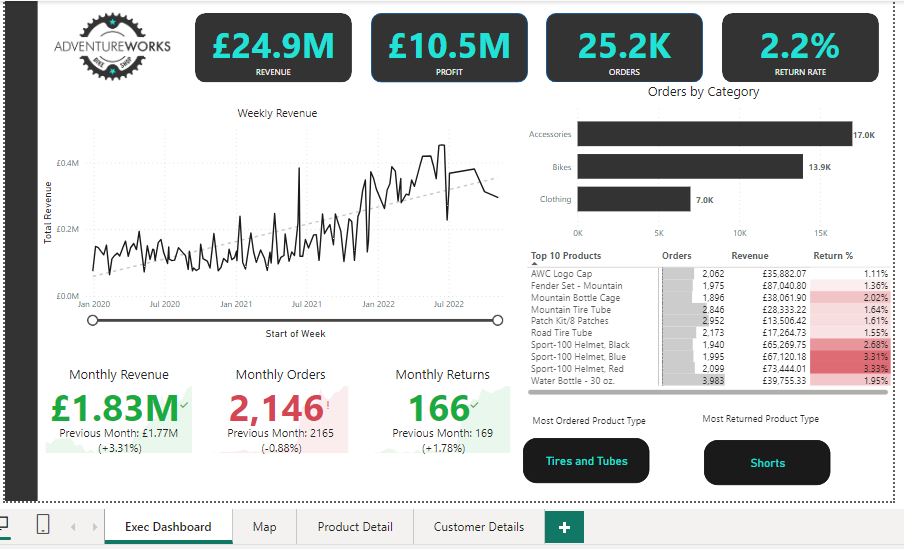

The dashboard page shown, as its layout file describes it:
{"tool":"powerbi","page":{"name":"Exec Dashboard","canvas":[1280,720],"ordinal":0},"visuals":[{"type":"image","title":"AW Logo","box":[47,7.6,215.2,116.7],"z":0},{"type":"shape","box":[274.2,16.7,225.8,100],"z":0,"group":"g2"},{"type":"shape","title":"Left Nav Background","box":[0,0,47,719.7],"z":1000},{"type":"shape","box":[527.2,16.7,225.8,100],"z":1000,"group":"g2"},{"type":"group","id":"g1","title":"KPI","box":[274.2,16.7,984.8,103],"z":2000},{"type":"group","id":"g2","title":"KPI Backgrounds","box":[274.2,16.7,984.8,100],"z":2000,"group":"g1"},{"type":"shape","box":[780.3,16.7,225.8,100],"z":2000,"group":"g2"},{"type":"card","fields":{"Values":["Measure Table.Total Revenue"]},"box":[281.8,16.7,210.6,103],"z":3000,"group":"g3"},{"type":"shape","box":[1033.3,16.7,225.8,100],"z":3000,"group":"g2"},{"type":"lineChart","title":"Weekly Revenue","fields":{"Category":["Calendar Lookup.Start of Week"],"Y":["Measure Table.Total Revenue"]},"box":[47,150,689.4,342.4],"z":3000},{"type":"card","fields":{"Values":["Measure Table.Return Rate"]},"box":[1040.9,16.7,210.6,103],"z":4000,"group":"g3"},{"type":"kpi","title":"Monthly Revenue","fields":{"Indicator":["Measure Table.Total Revenue"],"TrendLine":["Calendar Lookup.Start of Month"],"Goal":["Measure Table.Previous Month Revenue"]},"box":[53,524.2,221.2,131.8],"z":4000},{"type":"card","fields":{"Values":["Measure Table.Total Orders"]},"box":[787.9,16.7,210.6,103],"z":5000,"group":"g3"},{"type":"kpi","title":"Monthly Orders","fields":{"TrendLine":["Calendar Lookup.Start of Month"],"Indicator":["Measure Table.Total Orders"],"Goal":["Measure Table.Previous Month Orders"]},"box":[293.9,524.2,206.1,131.8],"z":5000},{"type":"card","fields":{"Values":["Measure Table.Total Profit"]},"box":[534.8,16.7,210.6,103],"z":6000,"group":"g3"},{"type":"kpi","title":"Monthly Returns","fields":{"TrendLine":["Calendar Lookup.Start of Month"],"Indicator":["Measure Table.Total Returns"],"Goal":["Measure Table.Previous Month Returns"]},"box":[527.3,524.2,206.1,131.8],"z":6000},{"type":"group","id":"g3","title":"KPI Values","box":[281.8,16.7,969.7,103],"z":6001,"group":"g1"},{"type":"clusteredBarChart","title":"Orders by Category","fields":{"Category":["Product Categories Lookup.CategoryName"],"Y":["Measure Table.Total Orders"]},"box":[743.9,116.7,522.7,236.4],"z":7000},{"type":"pivotTable","fields":{"Rows":["Product Lookup.ProductName"],"Values":["Measure Table.Total Orders","Measure Table.Total Revenue","Measure Table.Return Rate"]},"box":[747,353,533.3,219.7],"z":8000},{"type":"card","fields":{"Values":["Min(Product Subcategories Lookup.SubcategoryName)"]},"box":[745.5,628.8,181.8,65.2],"z":9000},{"type":"textbox","box":[754.5,590.9,193.9,74.2],"z":10000},{"type":"card","fields":{"Values":["Min(Product Subcategories Lookup.SubcategoryName)"]},"box":[1006.1,631.8,181.8,65.2],"z":11000},{"type":"textbox","box":[1000,587.9,193.9,74.2],"z":12000}]}

Visuals, with their boxes on the page's 1280x720 design canvas (x1, y1, x2, y2). These are canvas units, not pixel positions in the 904x549 screenshot, which may show the page scaled, cropped or inside an application window:
"AW Logo" image: (x1=47, y1=8, x2=262, y2=124)
shape: (x1=274, y1=17, x2=500, y2=117)
"Left Nav Background" shape: (x1=0, y1=0, x2=47, y2=720)
shape: (x1=527, y1=17, x2=753, y2=117)
"KPI" group: (x1=274, y1=17, x2=1259, y2=120)
"KPI Backgrounds" group: (x1=274, y1=17, x2=1259, y2=117)
shape: (x1=780, y1=17, x2=1006, y2=117)
card - Measure Table.Total Revenue: (x1=282, y1=17, x2=492, y2=120)
shape: (x1=1033, y1=17, x2=1259, y2=117)
"Weekly Revenue" lineChart: (x1=47, y1=150, x2=736, y2=492)
card - Measure Table.Return Rate: (x1=1041, y1=17, x2=1252, y2=120)
"Monthly Revenue" kpi: (x1=53, y1=524, x2=274, y2=656)
card - Measure Table.Total Orders: (x1=788, y1=17, x2=998, y2=120)
"Monthly Orders" kpi: (x1=294, y1=524, x2=500, y2=656)
card - Measure Table.Total Profit: (x1=535, y1=17, x2=745, y2=120)
"Monthly Returns" kpi: (x1=527, y1=524, x2=733, y2=656)
"KPI Values" group: (x1=282, y1=17, x2=1252, y2=120)
"Orders by Category" clusteredBarChart: (x1=744, y1=117, x2=1267, y2=353)
pivotTable - Product Lookup.ProductName x Measure Table.Total Orders: (x1=747, y1=353, x2=1280, y2=573)
card - Min(Product Subcategories Lookup.SubcategoryName): (x1=746, y1=629, x2=927, y2=694)
textbox: (x1=754, y1=591, x2=948, y2=665)
card - Min(Product Subcategories Lookup.SubcategoryName): (x1=1006, y1=632, x2=1188, y2=697)
textbox: (x1=1000, y1=588, x2=1194, y2=662)
